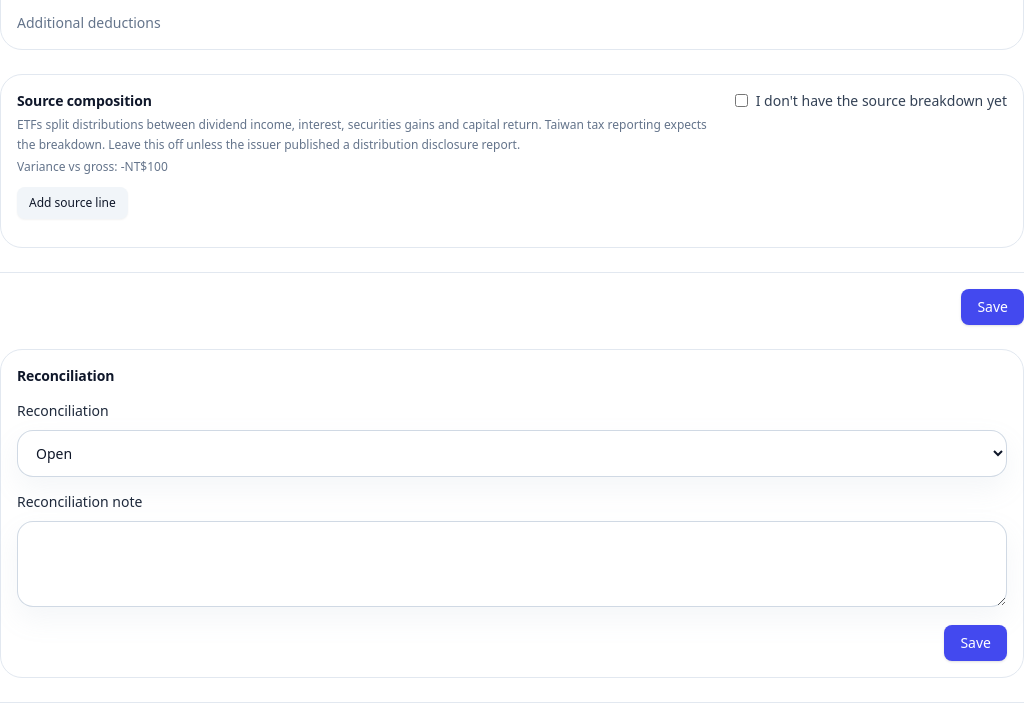
Test: DividendPostingForm › blocks reconciliation save when explained status has an empty note
(page scrolled)
Select "Explained" in the dropdown with test id "dividend-reconcile-status-select" at (512, 453), box [17,430,1007,476]
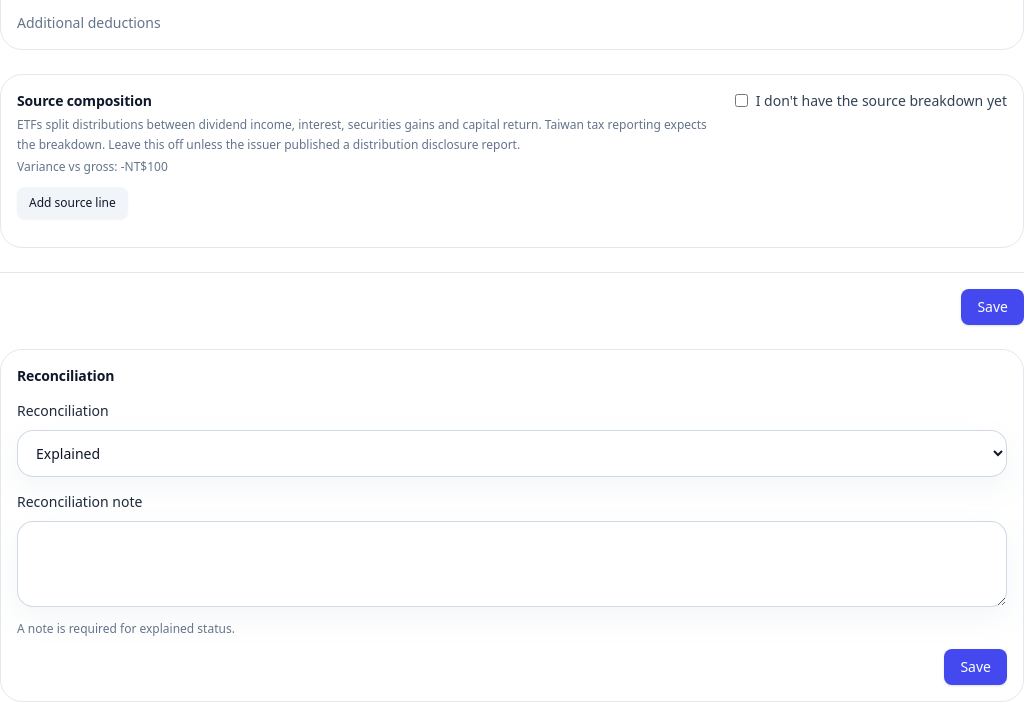
Click the button with test id "dividend-reconcile-save" at (976, 666), box [944,648,1007,684]
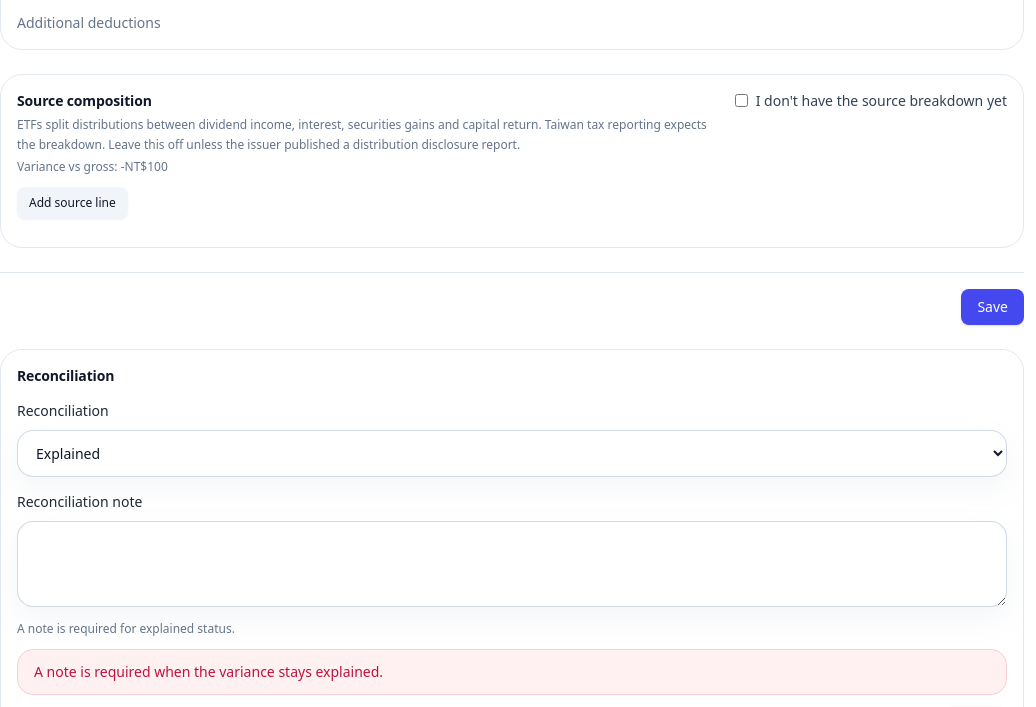
Result: the text with test id "dividend-reconcile-error" reads "A note is required when the variance stays explained." at [34,662,383,680]
